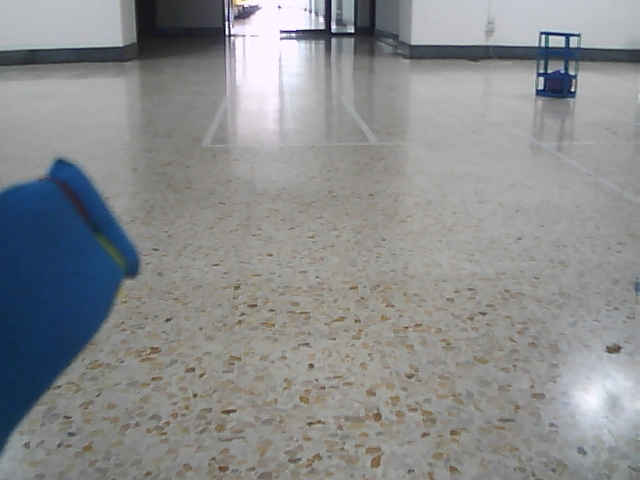Cyro: (534, 29, 582, 100)
Purple ball: (547, 69, 574, 94)
